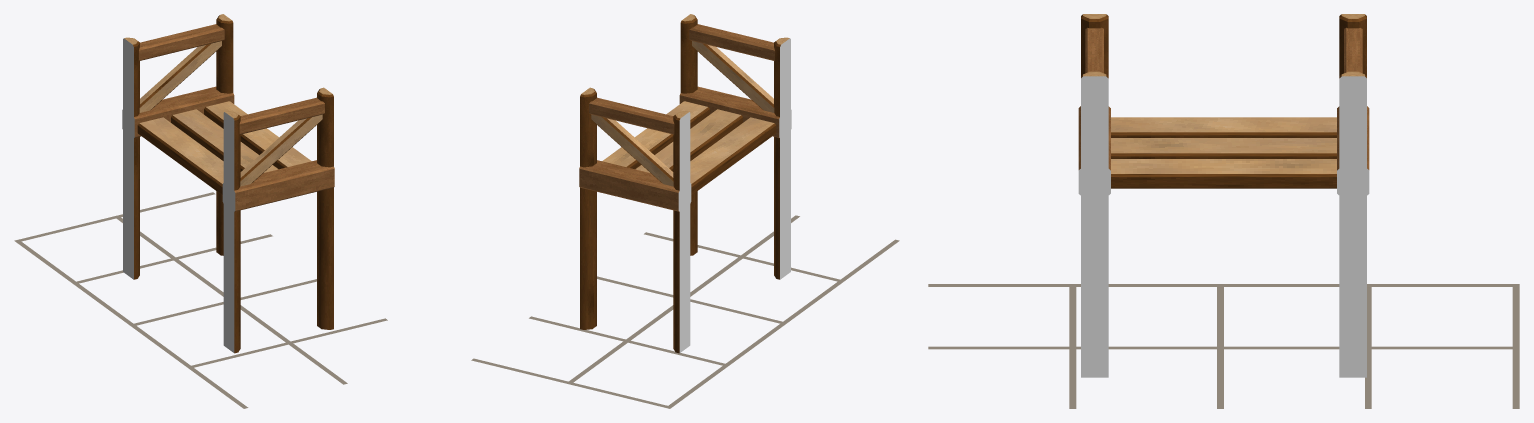
Rendered from Prop_Bridge_Center_1x2.glb.
The picture shows the model from 3 angles, left to right: view 1: azimuth 30°, elevation 25°; view 2: azimuth 150°, elevation 25°; view 3: azimuth 270°, elevation 25°; orthographic projection. The views are drawn at different scales.
Parts seen in each view (by area): view 1: Prop_Bridge_Center_1x2, Floor; view 2: Prop_Bridge_Center_1x2, Floor; view 3: Prop_Bridge_Center_1x2, Floor.
Part boxes in pixels (x1,y1,x2,y2): Prop_Bridge_Center_1x2: (122,14,334,353); Floor: (14,192,387,408); Prop_Bridge_Center_1x2: (579,14,791,353); Floor: (471,215,899,408); Prop_Bridge_Center_1x2: (1078,14,1369,377); Floor: (928,284,1519,408).
Size of the model in its own units: 200 by 225 by 400.
Materials: 6 (5 with a texture image).
